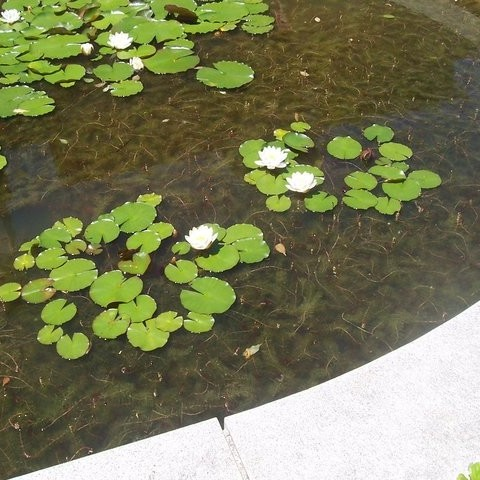obstacle: (27, 182, 248, 356)
